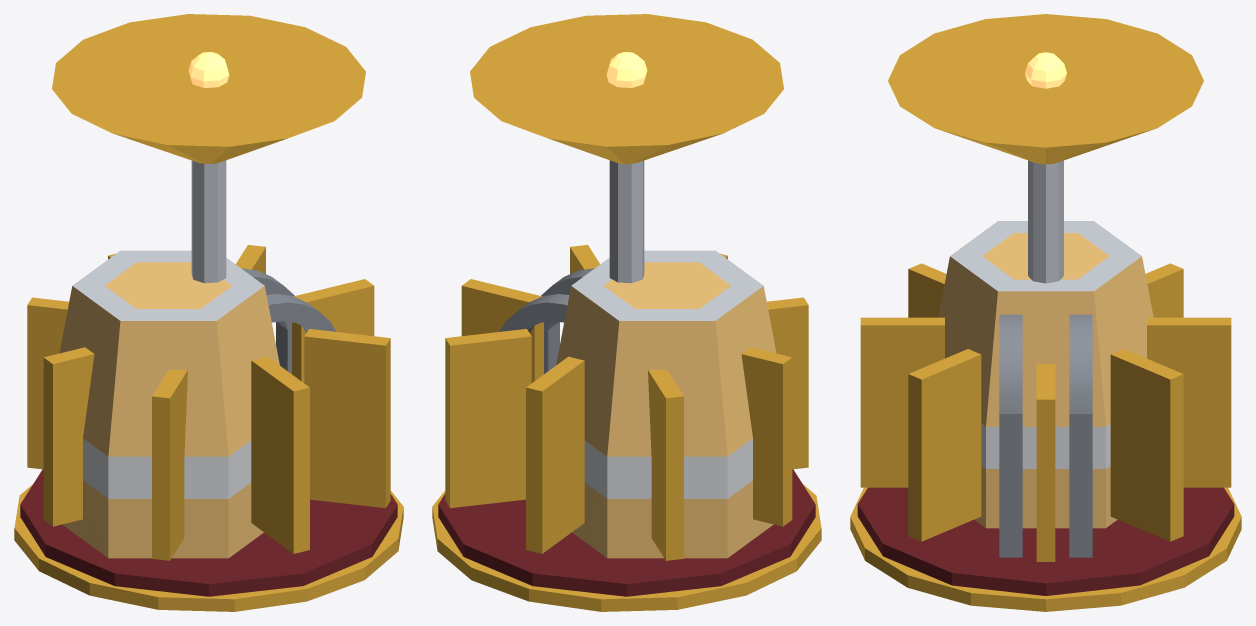
Rendered from rtg-n3.glb.
3 views of the same model, side by side, from view 1: azimuth 30°, elevation 25°; view 2: azimuth 150°, elevation 25°; view 3: azimuth 270°, elevation 25° (orthographic).
Parts seen in each view (by area): view 1: machine_barrel, Cone, Cylinder, Cube.007, Cube.006, Cylinder.002, Cube.004, Cube.005, Cylinder.001, Cube.003, Cube, cables (+2 smaller); view 2: machine_barrel, Cone, Cylinder, Cube.001, Cube.002, Cylinder.002, Cube.004, Cube.003, Cylinder.001, Cube.005, Cube, cables (+2 smaller); view 3: machine_barrel, Cone, Cylinder, Cube.001, Cube.007, cables, Cube.002, Cube.006, Cylinder.002, Cylinder.001, Cube, Cube.003 (+2 smaller).
Boxes of the visible parts, x1,y1,x2,y2 form: machine_barrel: (59, 250, 279, 558); Cone: (52, 14, 365, 163); Cylinder: (20, 469, 397, 596); Cube.007: (304, 329, 390, 508); Cube.006: (251, 356, 309, 553); Cylinder.002: (14, 484, 403, 611); Cube.004: (43, 347, 94, 526); Cube.005: (152, 370, 187, 560); Cylinder.001: (191, 160, 226, 283); Cube.003: (27, 297, 68, 469); Cube: (292, 279, 374, 382); cables: (241, 268, 336, 373); machine_barrel: (556, 250, 776, 558); Cone: (470, 14, 783, 163); Cylinder: (438, 469, 815, 596); Cube.001: (445, 329, 531, 508); Cube.002: (526, 356, 584, 553); Cylinder.002: (432, 484, 821, 611); Cube.004: (741, 347, 792, 526); Cube.003: (648, 370, 683, 560); Cylinder.001: (609, 160, 644, 283); Cube.005: (767, 297, 808, 469); Cube: (461, 279, 543, 382); cables: (499, 268, 594, 373); machine_barrel: (938, 221, 1153, 528); Cone: (888, 14, 1203, 164); Cylinder: (857, 487, 1234, 595); Cube.001: (1110, 349, 1183, 541); Cube.007: (908, 349, 981, 541); cables: (999, 314, 1092, 557); Cube.002: (1147, 317, 1231, 487); Cube.006: (860, 317, 944, 487); Cylinder.002: (850, 487, 1241, 611); Cylinder.001: (1028, 160, 1063, 283); Cube: (1036, 364, 1055, 561); Cube.003: (1145, 263, 1183, 317).
Bounding box in the file's own units: 0.8403 × 1.13 × 0.8403.
